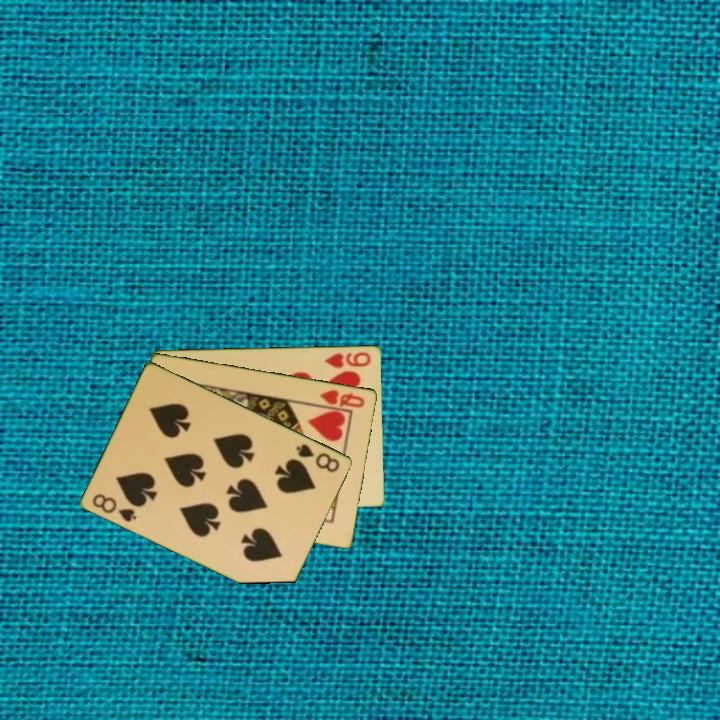8s: (89, 490, 140, 525), (293, 440, 343, 475)
9h: (321, 348, 374, 371)
Qh: (317, 386, 368, 410)
